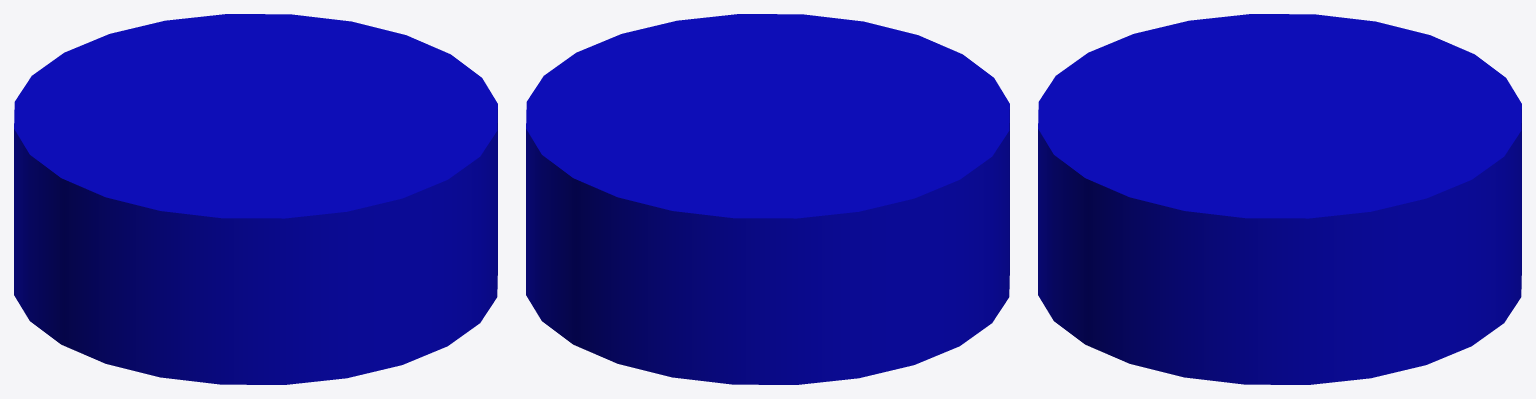
File: atitude_target.dae
3 views of the same model, side by side, from view 1: azimuth 30°, elevation 25°; view 2: azimuth 150°, elevation 25°; view 3: azimuth 270°, elevation 25° (orthographic).
Parts seen in each view (by area): view 1: SketchUp; view 2: SketchUp; view 3: SketchUp.
Boxes of the visible parts, <box> form: SketchUp: <box>14,14,497,384</box>; SketchUp: <box>526,14,1009,384</box>; SketchUp: <box>1038,14,1521,384</box>.
Bounding box in the file's own units: 2345 × 2345 × 890.
